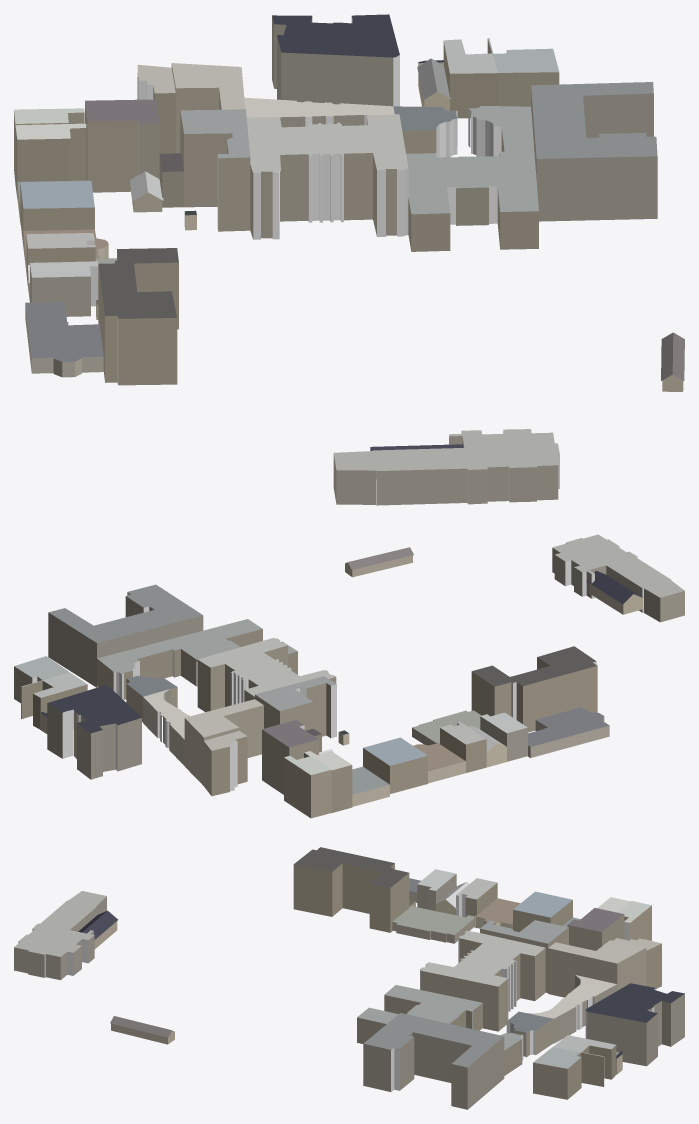
The picture shows the model from 3 angles, top to bottom: view 1: azimuth 30°, elevation 25°; view 2: azimuth 150°, elevation 25°; view 3: azimuth 270°, elevation 25°; orthographic projection. The views are drawn at different scales.
Parts seen in each view (by area): view 1: tuile; view 2: tuile; view 3: tuile.
Part boxes in pixels (x1=…): tuile: x1=14, y1=14, x2=684, y2=505; tuile: x1=14, y1=534, x2=684, y2=818; tuile: x1=14, y1=847, x2=684, y2=1109.
Bounding box in the file's own units: 235 × 25.72 × 288.
